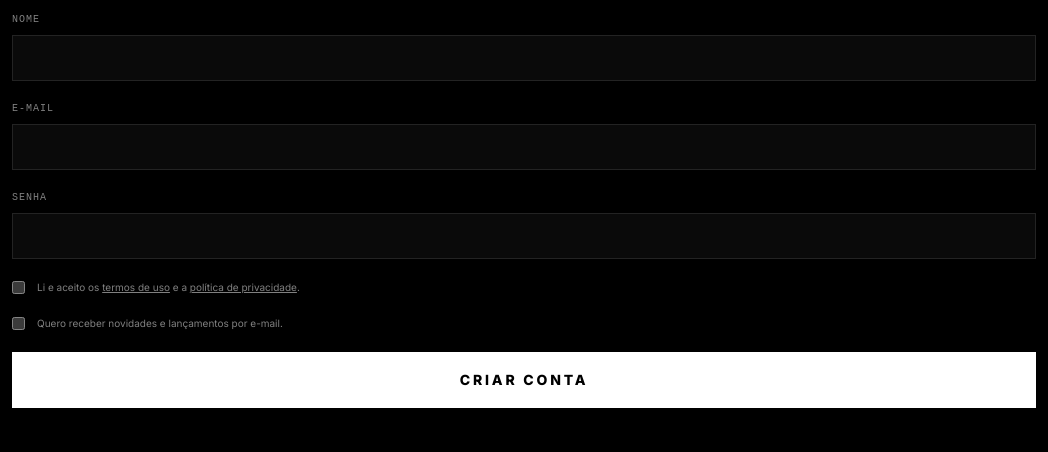
Scenario: SignUpForm › senha fraca não chega ao Firebase
The image size is (1048, 452).
Type "Ana Souza" into the field labelled "Nome" at (524, 58), box [12, 35, 1036, 81]
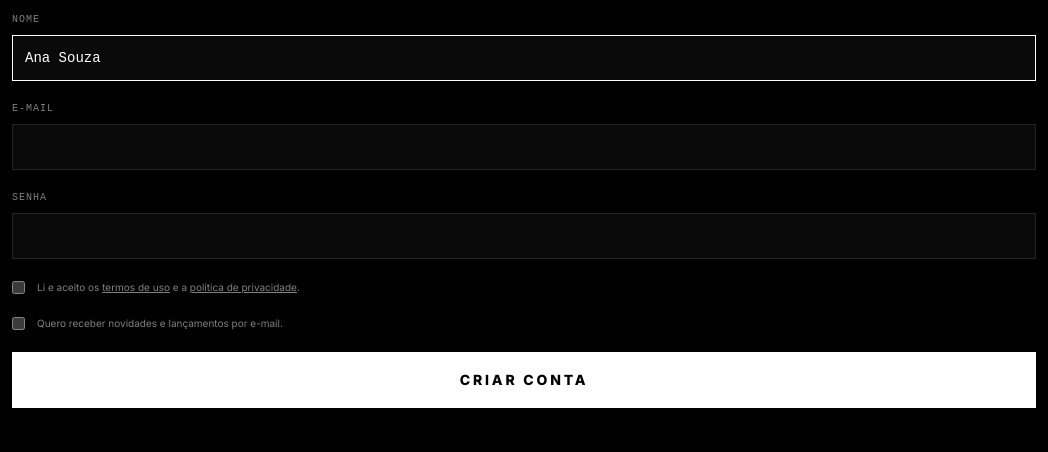
Type "ana@b.com" into the field labelled "E-mail" at (524, 147), box [12, 124, 1036, 170]
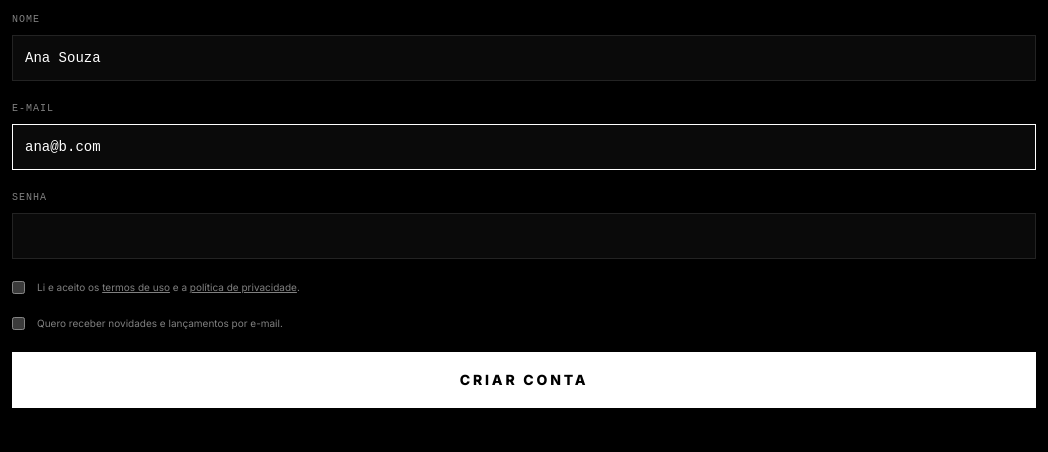
Type "abcdefgh" into the password field labelled "Senha" at (524, 236), box [12, 213, 1036, 259]
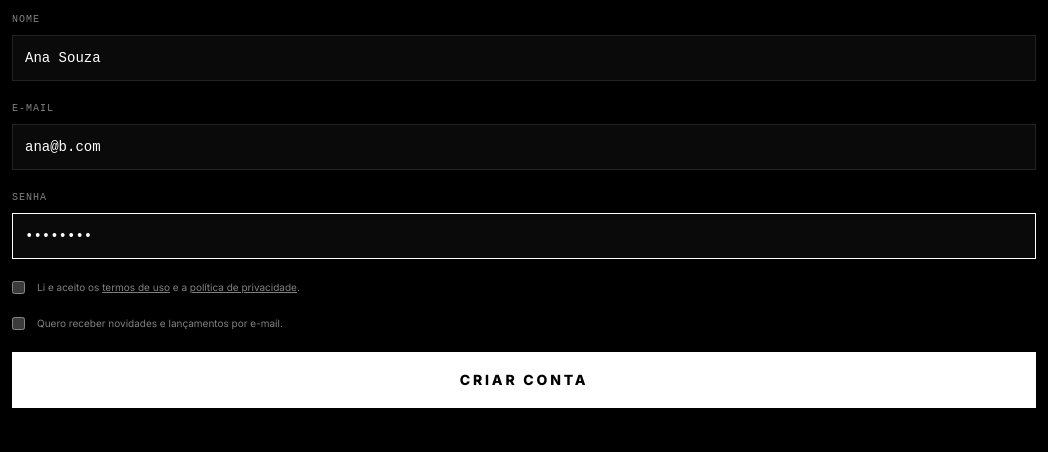
Click the checkbox labelled "Li e aceito os termos de uso e a política de privacidade ." at (18, 288), box [12, 281, 25, 294]
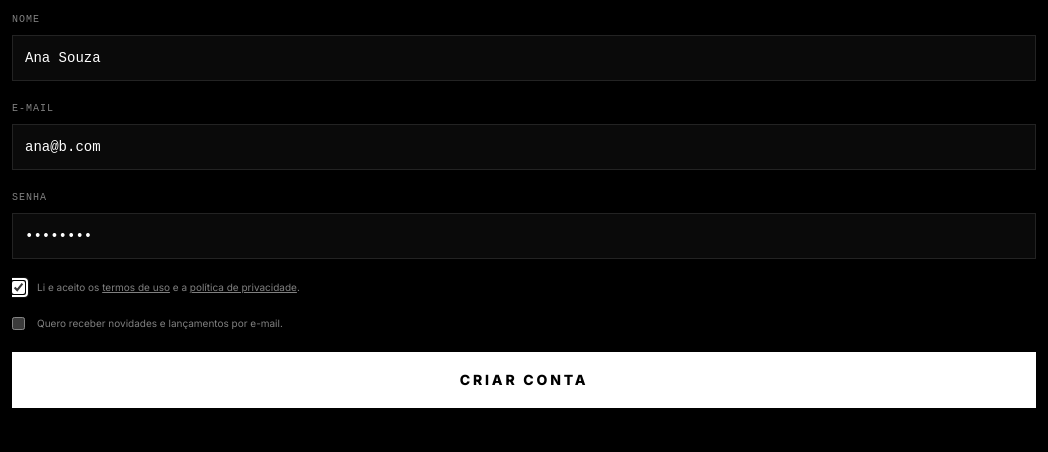
Click the button "Criar conta" at (524, 380), box [12, 352, 1036, 408]
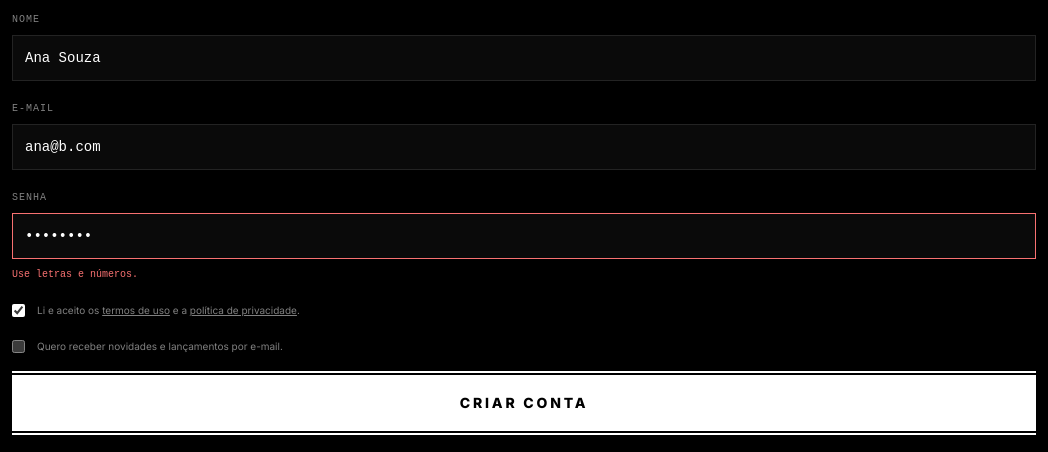
Check: the text "Use letras e números." is shown, box [12, 269, 138, 280]
